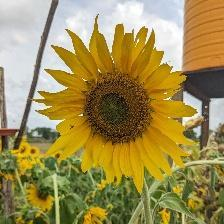sunflower: (31, 16, 201, 198)
